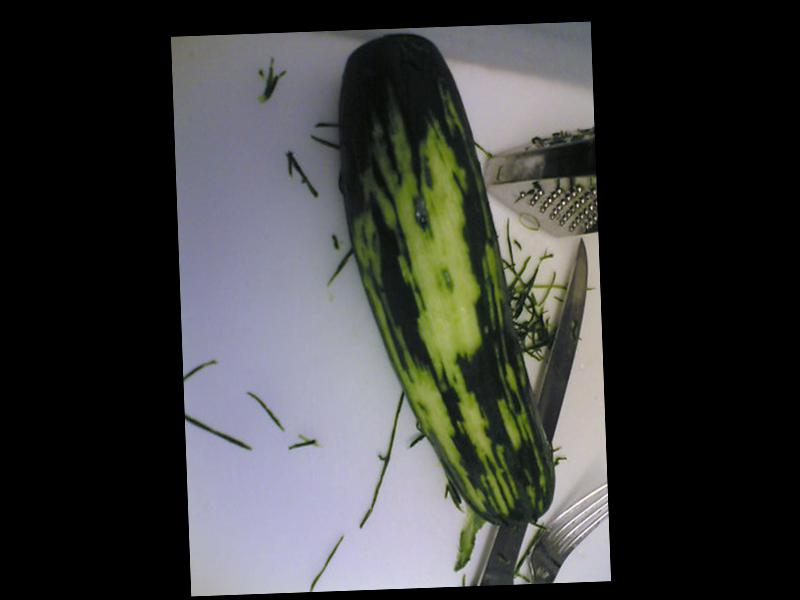Cucumber: (334, 28, 558, 533)
